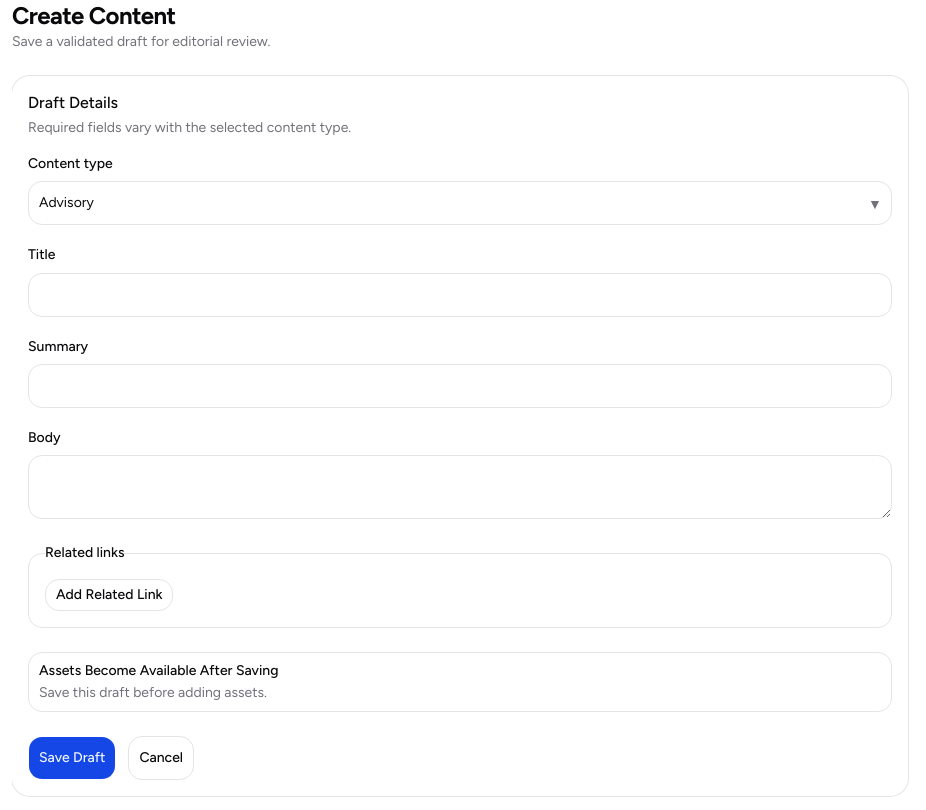
Scenario: ContentFormView › adds, reorders, and removes labelled related links with buttons
Later steps or results of the test are not shown.
Click the button "Add Related Link". click: (109,595)
box: [45,579,174,611]
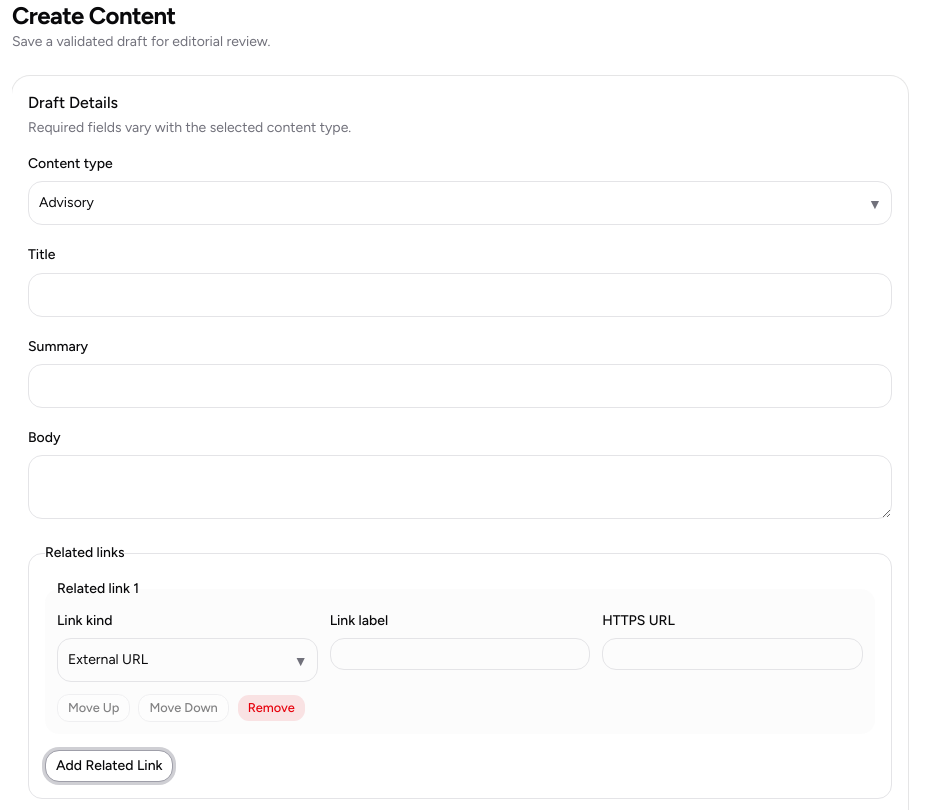
Click the button "Add Related Link". click: (109,766)
box: [45,750,174,782]
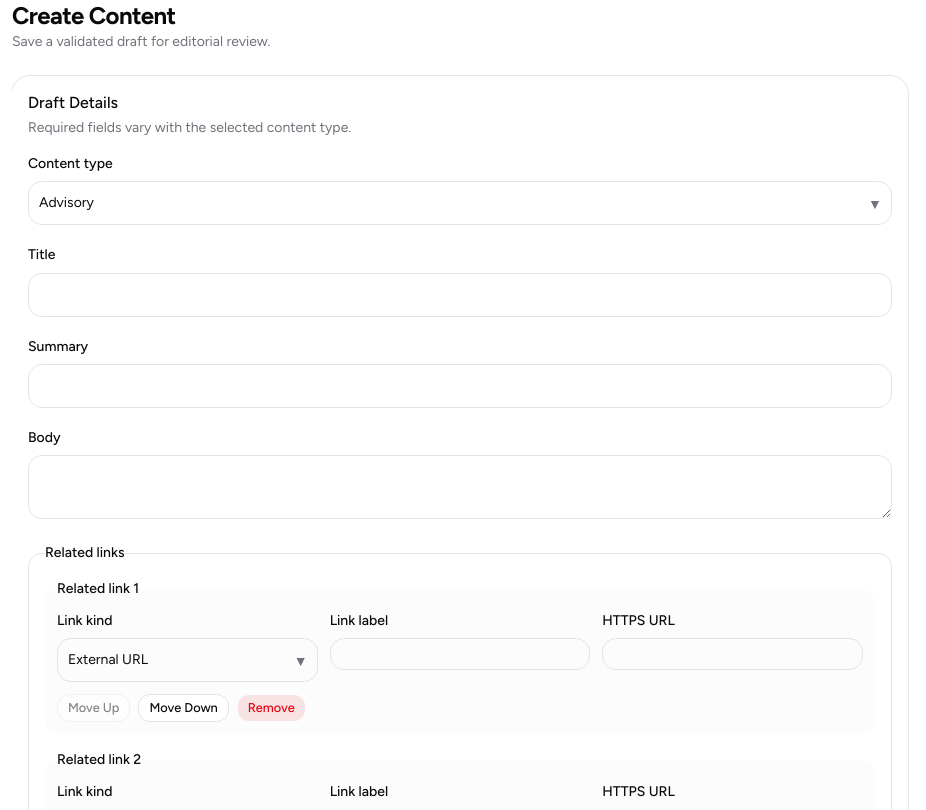
Click the dropdown named "link kind". click: (108,660)
box: [57,638,318,682]
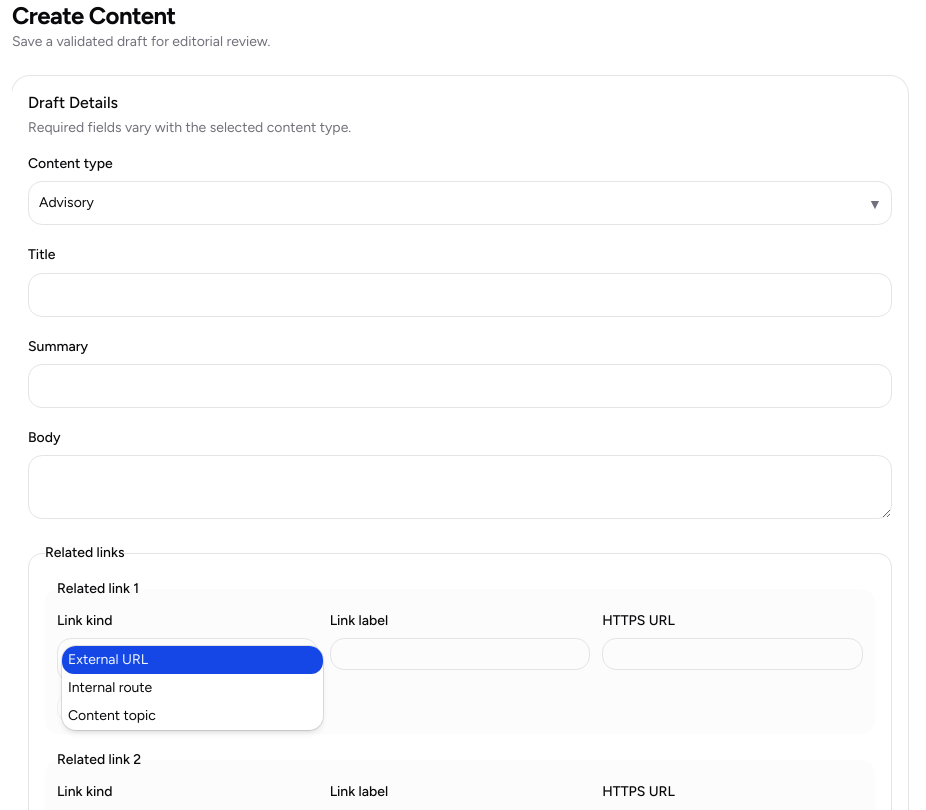
Click the option "Internal route". click: (110,688)
box: [68,679,152,696]
(page scrolled)
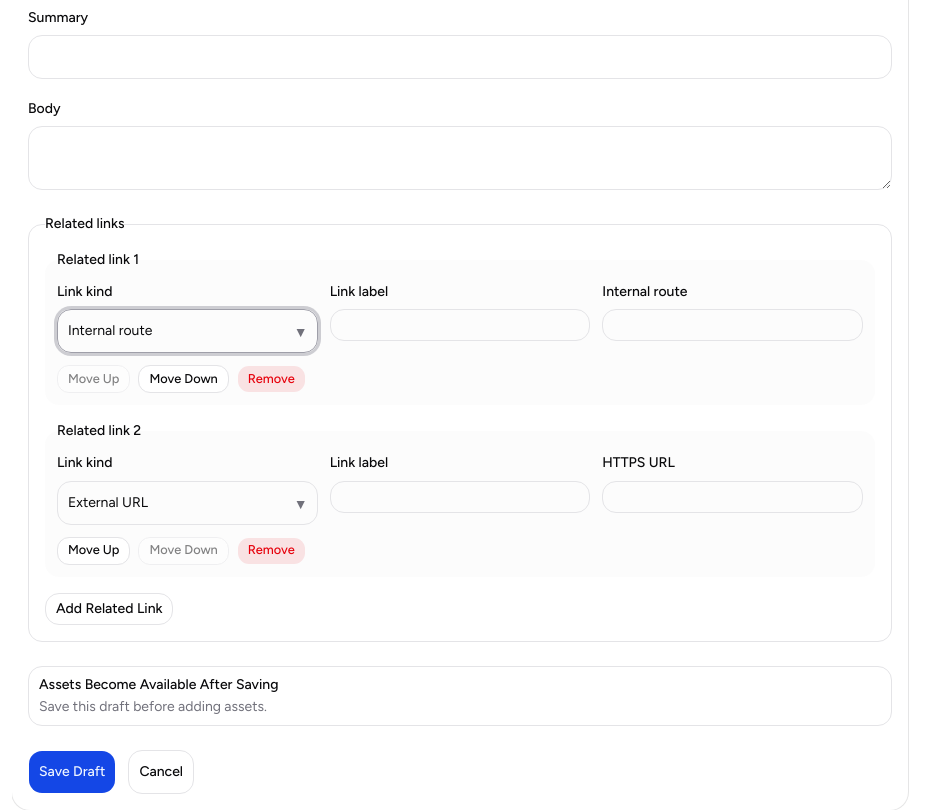
Now the button with aria-label "move related link 2 up" is enabled, box [57,536,130,564]
Now the dropdown named "link kind" shows "Internal route", box [57,309,318,353]
